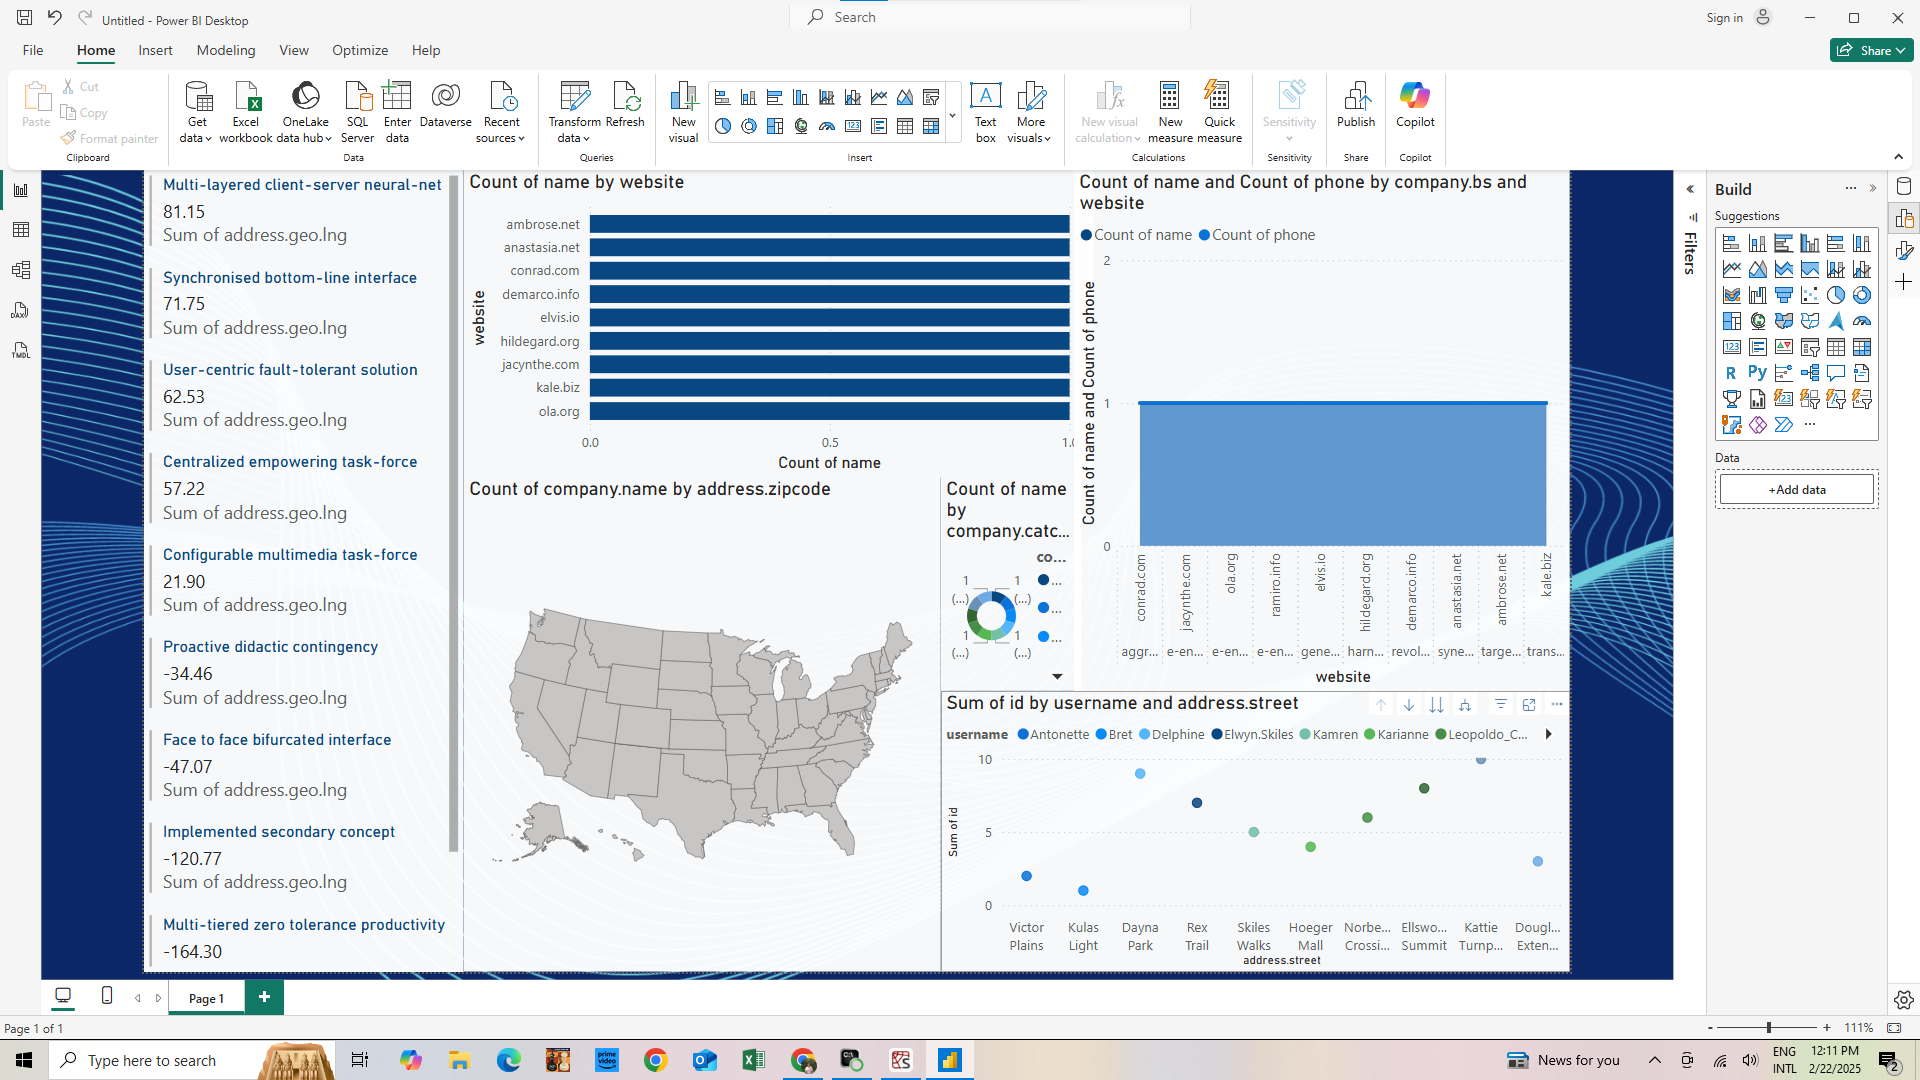

The dashboard page shown, as its layout file describes it:
{"tool":"powerbi","page":{"name":"Page 1","canvas":[1280,720],"ordinal":0},"visuals":[{"type":"multiRowCard","fields":{"Values":["users.address.geo.lng","users.company.catchPhrase"]},"box":[0,0,287.3,720],"z":0},{"type":"barChart","fields":{"Y":["users.name"],"Category":["users.website"]},"box":[287.3,0,564.7,275.6],"z":1000},{"type":"shapeMap","fields":{"Category":["users.address.zipcode"],"Value":["users.company.name"]},"box":[287.3,275.6,428.2,444.4],"z":2000},{"type":"areaChart","fields":{"Category":["users.company.bs","users.website"],"Y":["users.name","users.phone"]},"box":[834.9,0,445.3,467.7],"z":3000},{"type":"scatterChart","fields":{"X":["users.address.street","users.name"],"Y":["users.id"],"Series":["users.username"]},"box":[715.5,467.7,564.7,252.3],"z":4000},{"type":"donutChart","fields":{"Category":["users.company.catchPhrase"],"Y":["users.name"]},"box":[715.5,275.6,125.7,192.1],"z":5000}]}

Visuals, with their boxes on the page's 1280x720 design canvas (x1, y1, x2, y2). These are canvas units, not pixel positions in the 1920x1080 screenshot, which may show the page scaled, cropped or inside an application window:
multiRowCard - users.address.geo.lng x users.company.catchPhrase: left=0, top=0, right=287, bottom=720
barChart - users.name x users.website: left=287, top=0, right=852, bottom=276
shapeMap - users.address.zipcode x users.company.name: left=287, top=276, right=716, bottom=720
areaChart - users.company.bs x users.website: left=835, top=0, right=1280, bottom=468
scatterChart - users.address.street x users.name: left=716, top=468, right=1280, bottom=720
donutChart - users.company.catchPhrase x users.name: left=716, top=276, right=841, bottom=468
